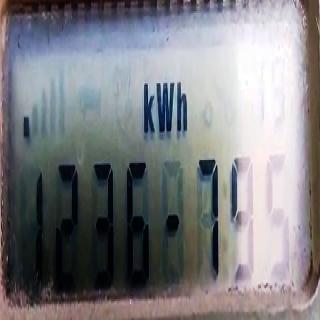-: (166, 212, 180, 234), (22, 111, 30, 142)
1: (34, 165, 47, 297)
2: (53, 158, 80, 298)
3: (91, 156, 118, 296)
5: (263, 140, 292, 288)
6: (123, 157, 152, 292)
7: (198, 148, 222, 282)
9: (230, 147, 258, 285)
